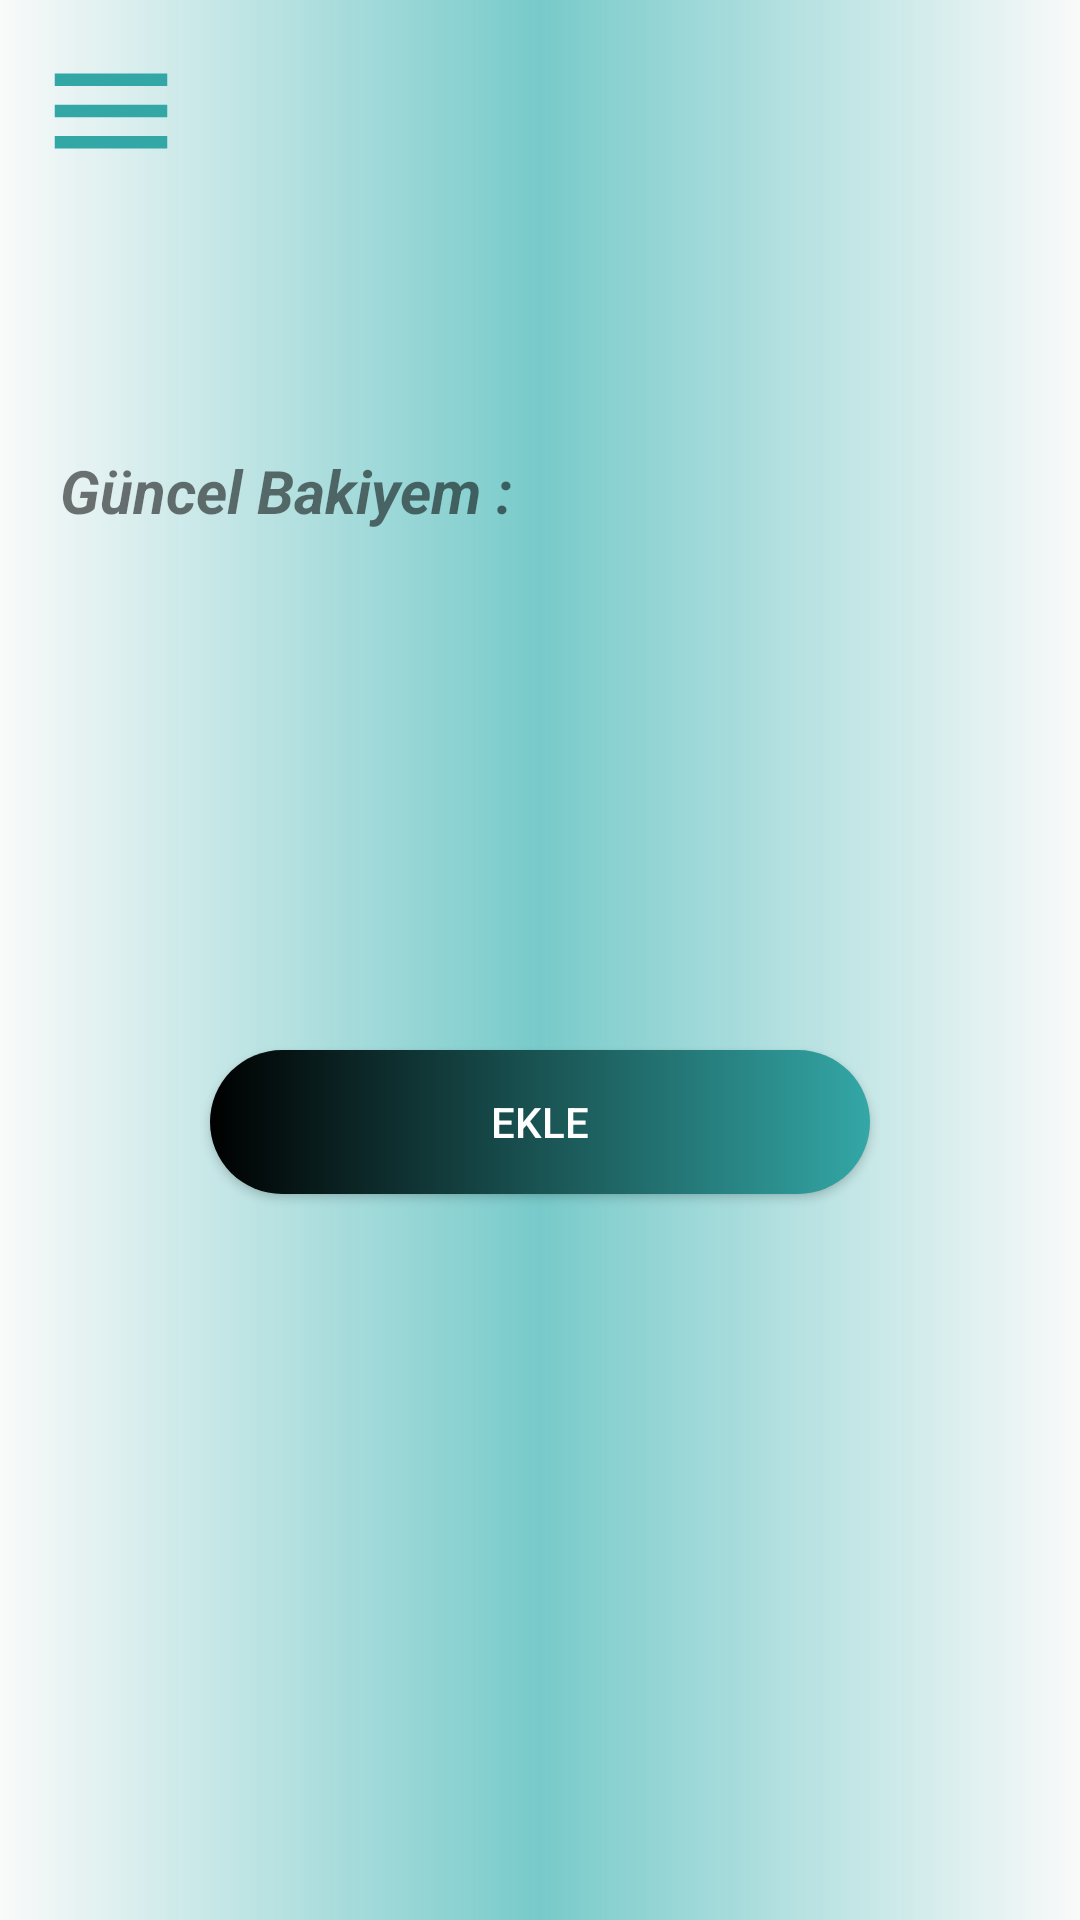

Where to tap for icons on this 1080px×1920px app screen, as point (x, y):
menu: point (111, 111)
